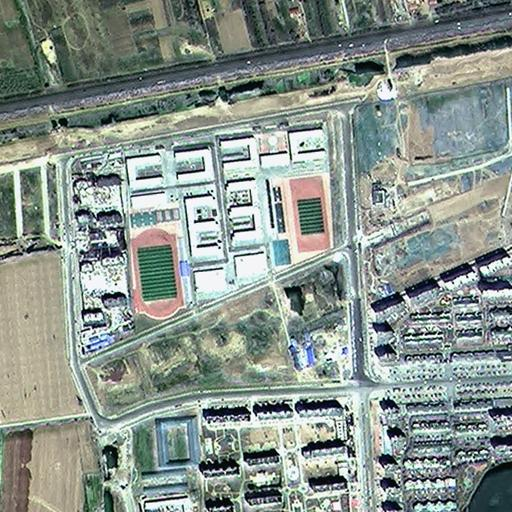school: (218, 118, 335, 281), (121, 145, 227, 317)
